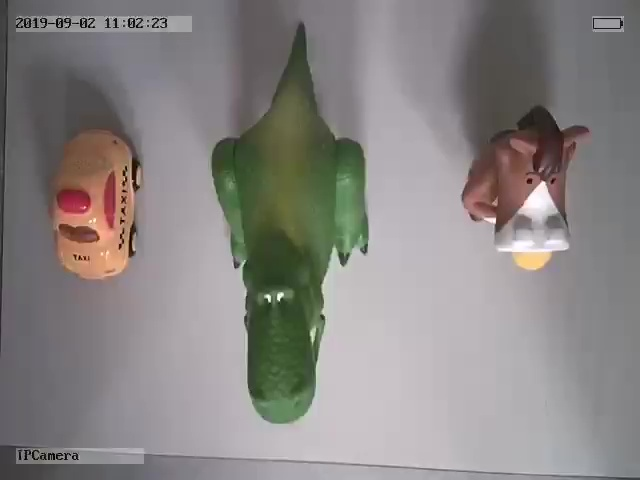car: (49, 125, 145, 282)
horse: (460, 102, 590, 272)
rex: (209, 21, 369, 426)
